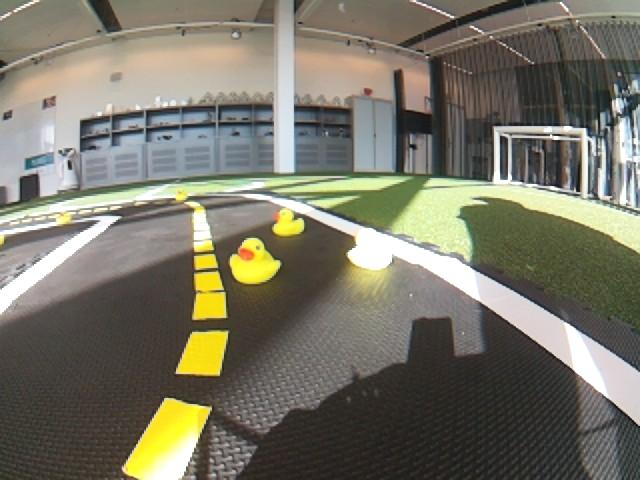Duckies: (231, 238, 282, 286), (346, 228, 393, 270), (273, 209, 305, 236), (55, 211, 70, 225), (175, 188, 189, 201)
